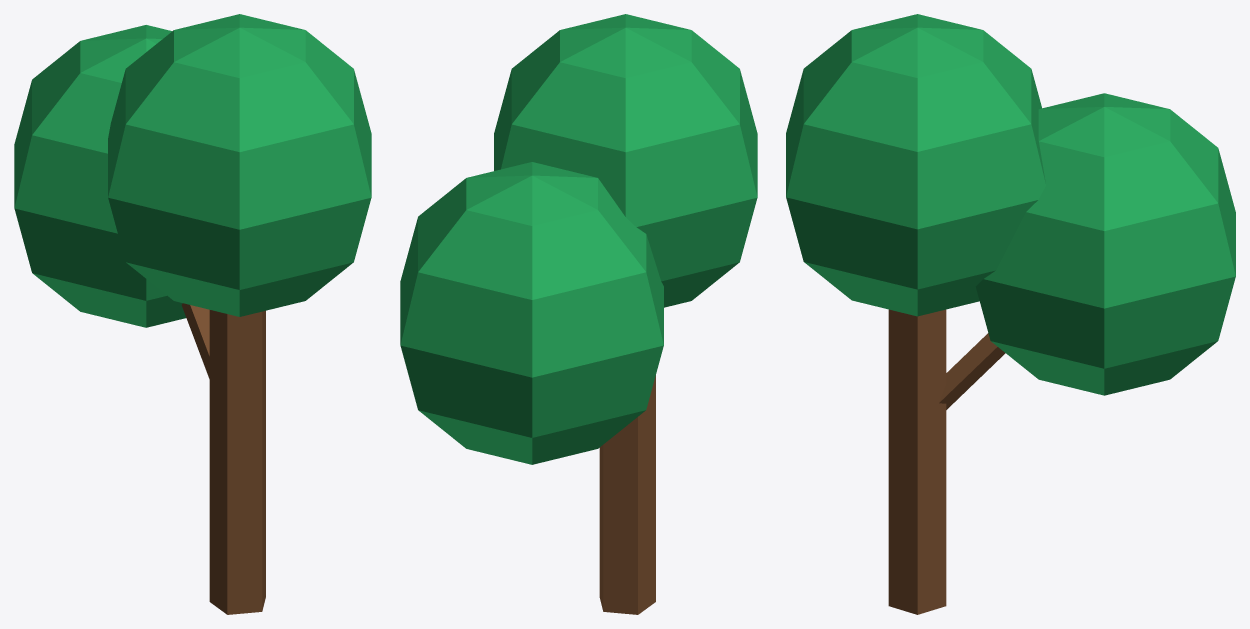
The model's file is geo_Tree_02.fbx.
3 renders of one model, left to right at view 1: azimuth 30°, elevation 25°; view 2: azimuth 150°, elevation 25°; view 3: azimuth 270°, elevation 25°, orthographic.
Parts seen in each view (by area): view 1: geo_TreeTop_01, geo_TreeTop_04, geo_treeTrunk_01, geo_treeBranch_02; view 2: geo_TreeTop_04, geo_TreeTop_01, geo_treeTrunk_01; view 3: geo_TreeTop_01, geo_TreeTop_04, geo_treeTrunk_01, geo_treeBranch_02.
Boxes of the visible parts, x1=… form: geo_TreeTop_01: x1=108, y1=14, x2=371, y2=316; geo_TreeTop_04: x1=14, y1=25, x2=186, y2=327; geo_treeTrunk_01: x1=209, y1=310, x2=265, y2=614; geo_treeBranch_02: x1=181, y1=303, x2=209, y2=378; geo_TreeTop_04: x1=400, y1=162, x2=663, y2=464; geo_TreeTop_01: x1=494, y1=14, x2=757, y2=307; geo_treeTrunk_01: x1=599, y1=375, x2=655, y2=614; geo_TreeTop_01: x1=786, y1=14, x2=1045, y2=316; geo_TreeTop_04: x1=976, y1=93, x2=1235, y2=395; geo_treeTrunk_01: x1=888, y1=309, x2=946, y2=614; geo_treeBranch_02: x1=939, y1=333, x2=1005, y2=409.
Bounding box in the file's own units: 116 × 241 × 171.
